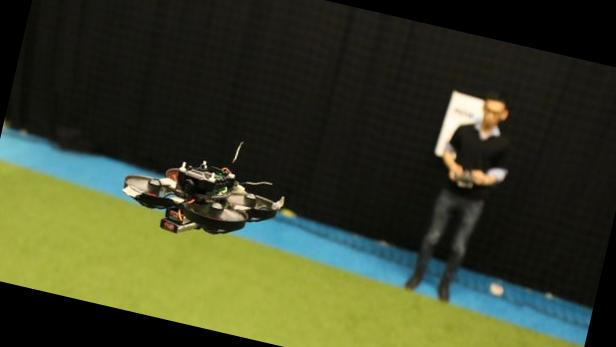drone: (108, 132, 299, 253)
